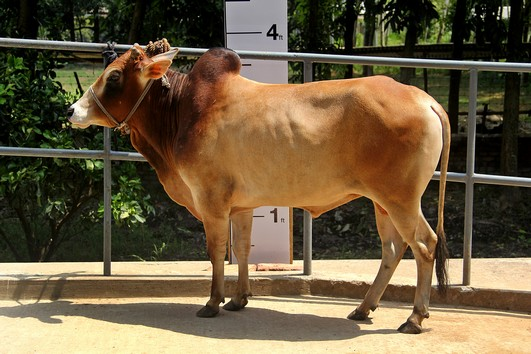cow: (61, 37, 459, 340)
